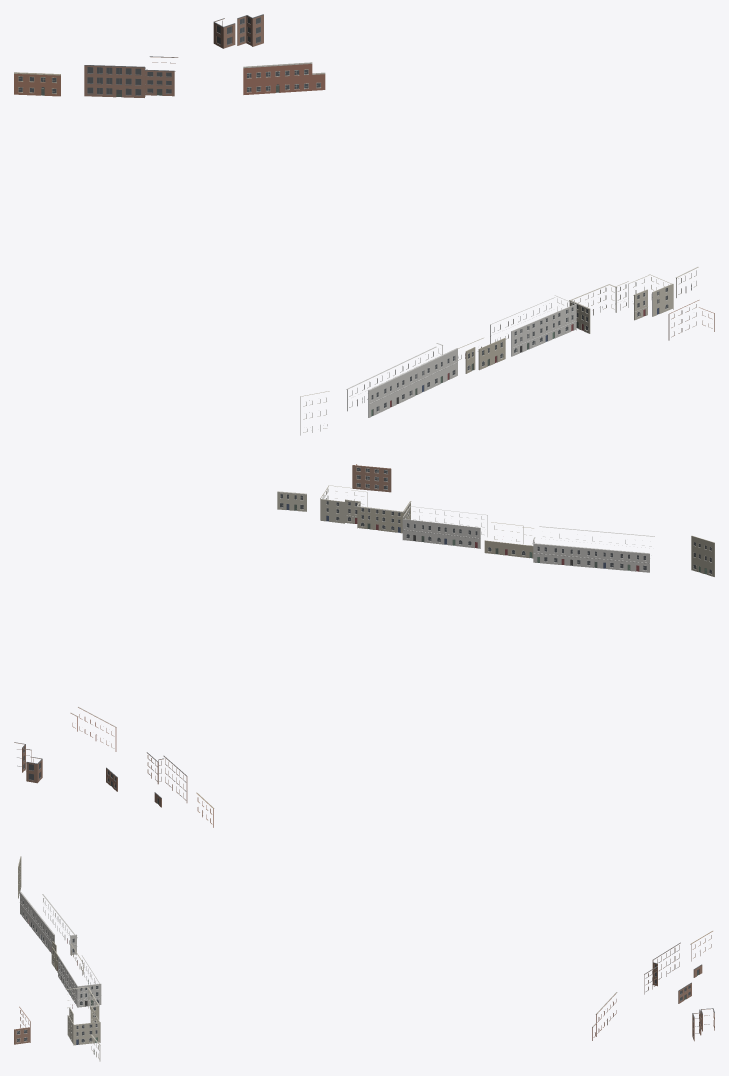
The picture shows the model from 3 angles, top to bottom: view 1: azimuth 30°, elevation 25°; view 2: azimuth 150°, elevation 25°; view 3: azimuth 270°, elevation 25°; orthographic projection. The views are drawn at different scales.
Parts seen in each view (by area): view 1: f:way/158060967, f:way/13989043, f:way/13989074, f:way/158060966, f:way/93136305, f:way/13988468, f:way/158060968, f:way/158060963; view 2: f:way/158060967, f:way/158060966, f:way/158060959, f:way/171900553, f:way/158062012, f:way/158060968, f:way/13989043, f:way/158060963; view 3: f:way/158060967, f:way/158060966, f:way/158060963, f:way/13989043, f:way/171900553.
Boxes of the visible parts, box(x1,y1,x2,y2) form: f:way/158060967: box(346, 343, 457, 417); f:way/13989043: box(84, 56, 178, 97); f:way/13989074: box(243, 62, 325, 94); f:way/158060966: box(490, 295, 576, 356); f:way/93136305: box(213, 14, 263, 48); f:way/13988468: box(14, 72, 60, 96); f:way/158060968: box(458, 338, 505, 373); f:way/158060963: box(628, 274, 673, 316); f:way/158060967: box(533, 526, 654, 572); f:way/158060966: box(402, 506, 487, 548); f:way/158060959: box(357, 501, 411, 533); f:way/171900553: box(352, 464, 391, 492); f:way/158062012: box(691, 535, 714, 576); f:way/158060968: box(484, 522, 533, 558); f:way/13989043: box(106, 752, 187, 807); f:way/158060963: box(320, 485, 352, 523); f:way/158060967: box(19, 891, 77, 955); f:way/158060966: box(58, 955, 101, 1007); f:way/158060963: box(67, 1013, 100, 1045); f:way/13989043: box(644, 942, 702, 1003); f:way/171900553: box(14, 1006, 30, 1044).
Bounding box in the file's own units: 149 × 14.4 × 250.
